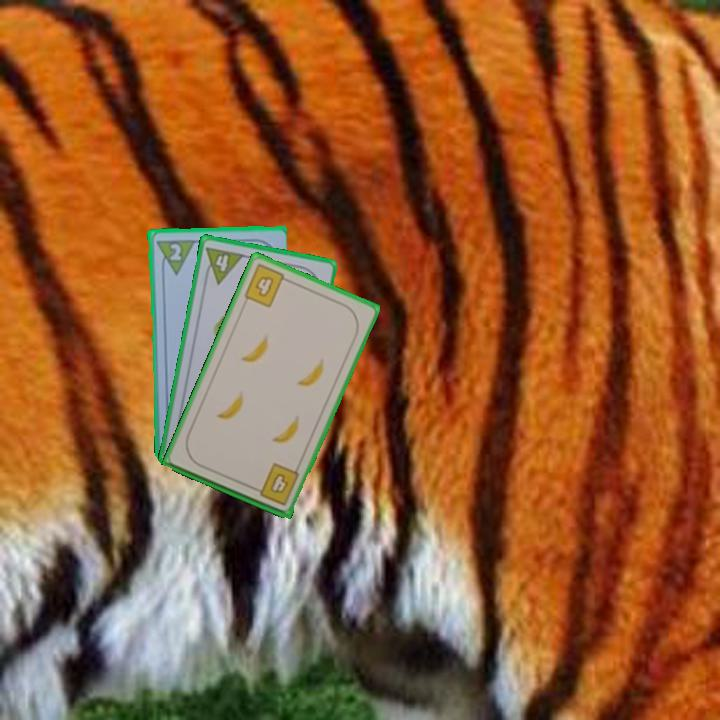2p: (152, 236, 196, 277)
4b: (240, 260, 293, 310), (249, 459, 302, 508)
4p: (200, 243, 247, 287)
